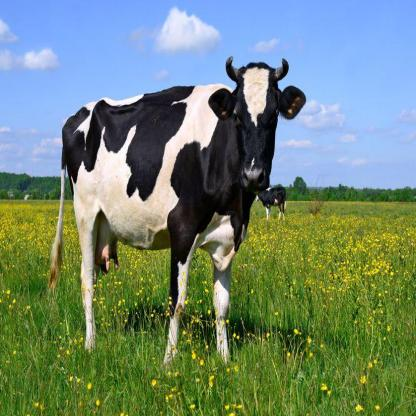cow: (47, 61, 306, 368), (258, 187, 286, 219)
